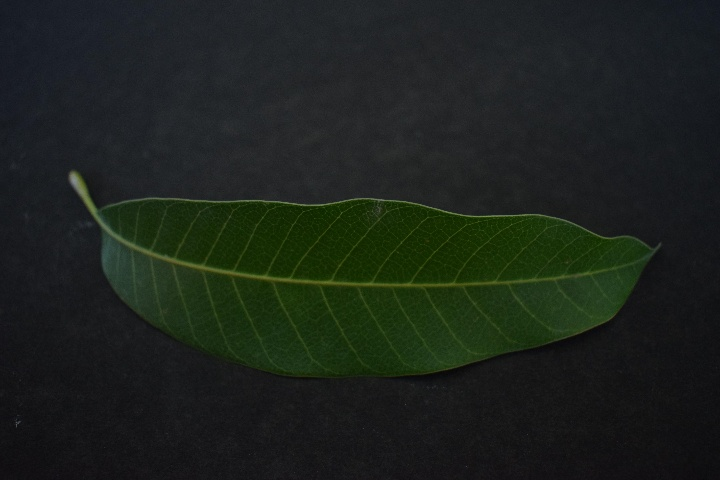healthy: (63, 178, 658, 386)
